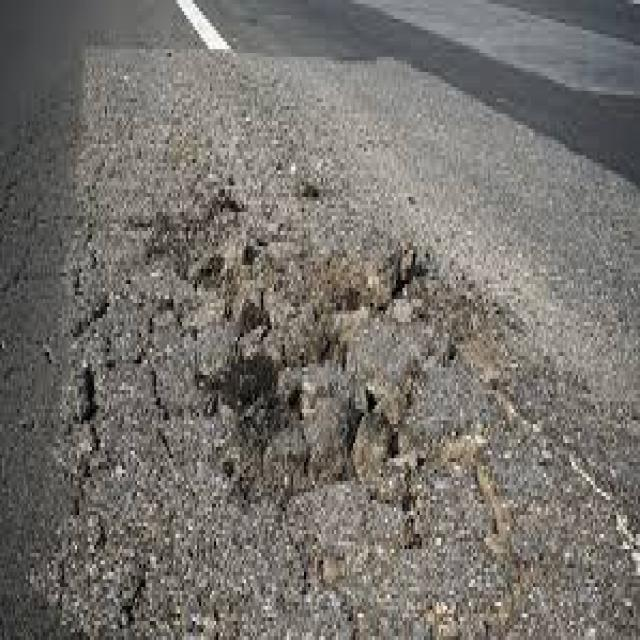Pothole: (193, 246, 435, 496)
